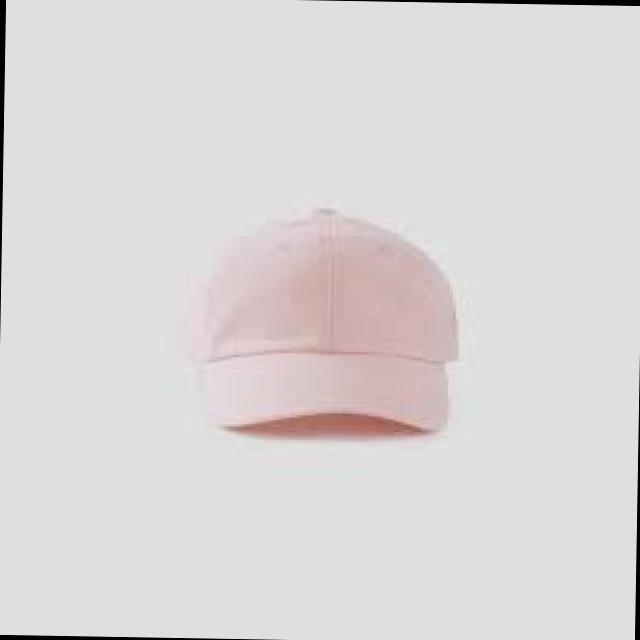cap: (135, 181, 515, 465)
